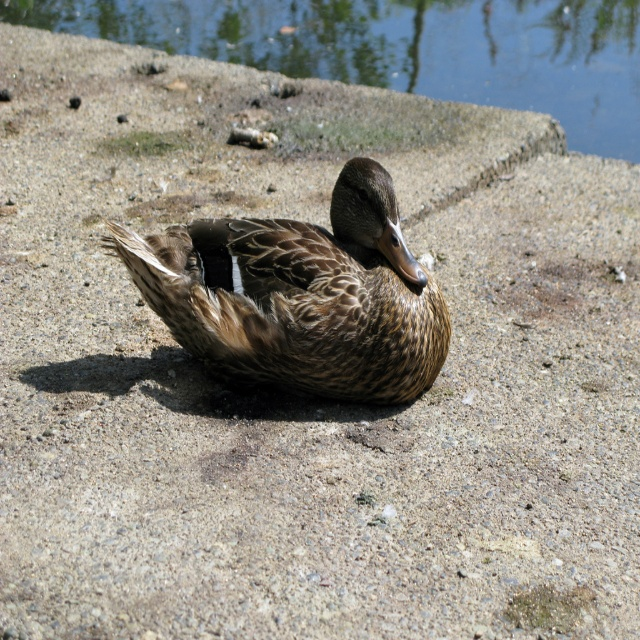Goose: (106, 156, 452, 408)
